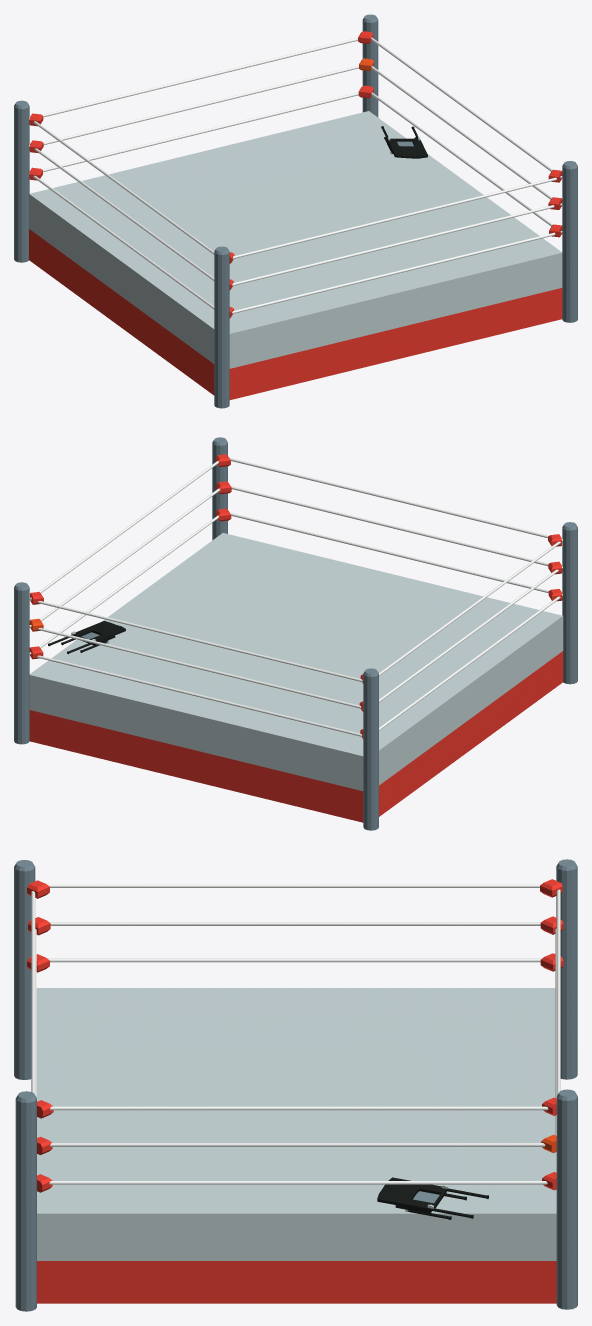
Rendered from boxingRing-transformed.glb.
3 views of the same model, one above another, from view 1: azimuth 30°, elevation 25°; view 2: azimuth 150°, elevation 25°; view 3: azimuth 270°, elevation 25° (orthographic). The views are drawn at different scales.
Visible parts, largest first — view 1: group328789628; view 2: group328789628; view 3: group328789628.
Boxes of the visible parts, x1,y1,x2,y2 form: group328789628: (14, 14, 577, 408); group328789628: (14, 437, 577, 830); group328789628: (14, 859, 577, 1311).
Bounding box in the file's own units: 7.53 × 3.1 × 7.42.
Materials: 1 (1 with a texture image).
